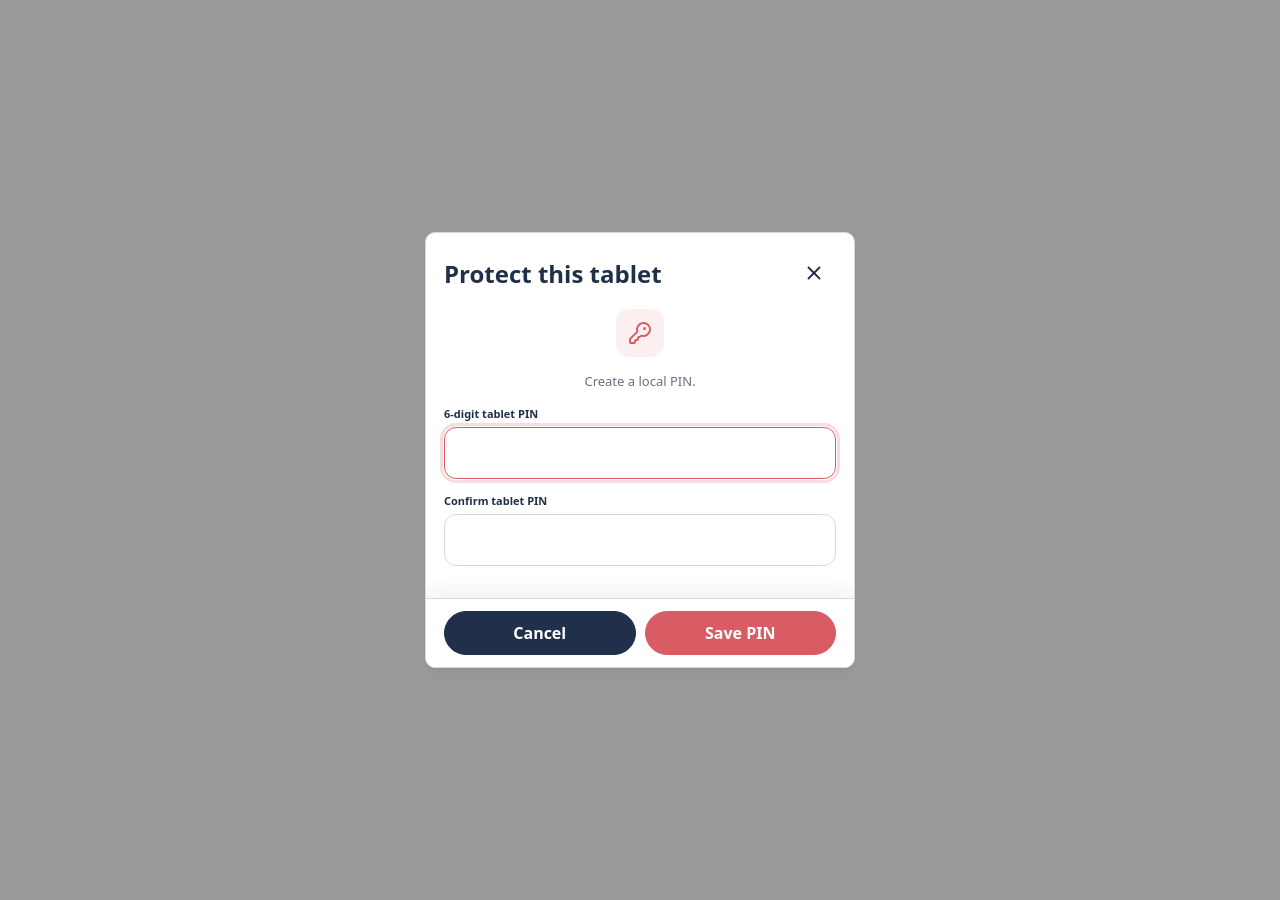
EventPinDialog › requires matching PINs during setup
In the password field labelled "6-digit tablet PIN": [640, 453] box [444,427,836,479], type "123456"
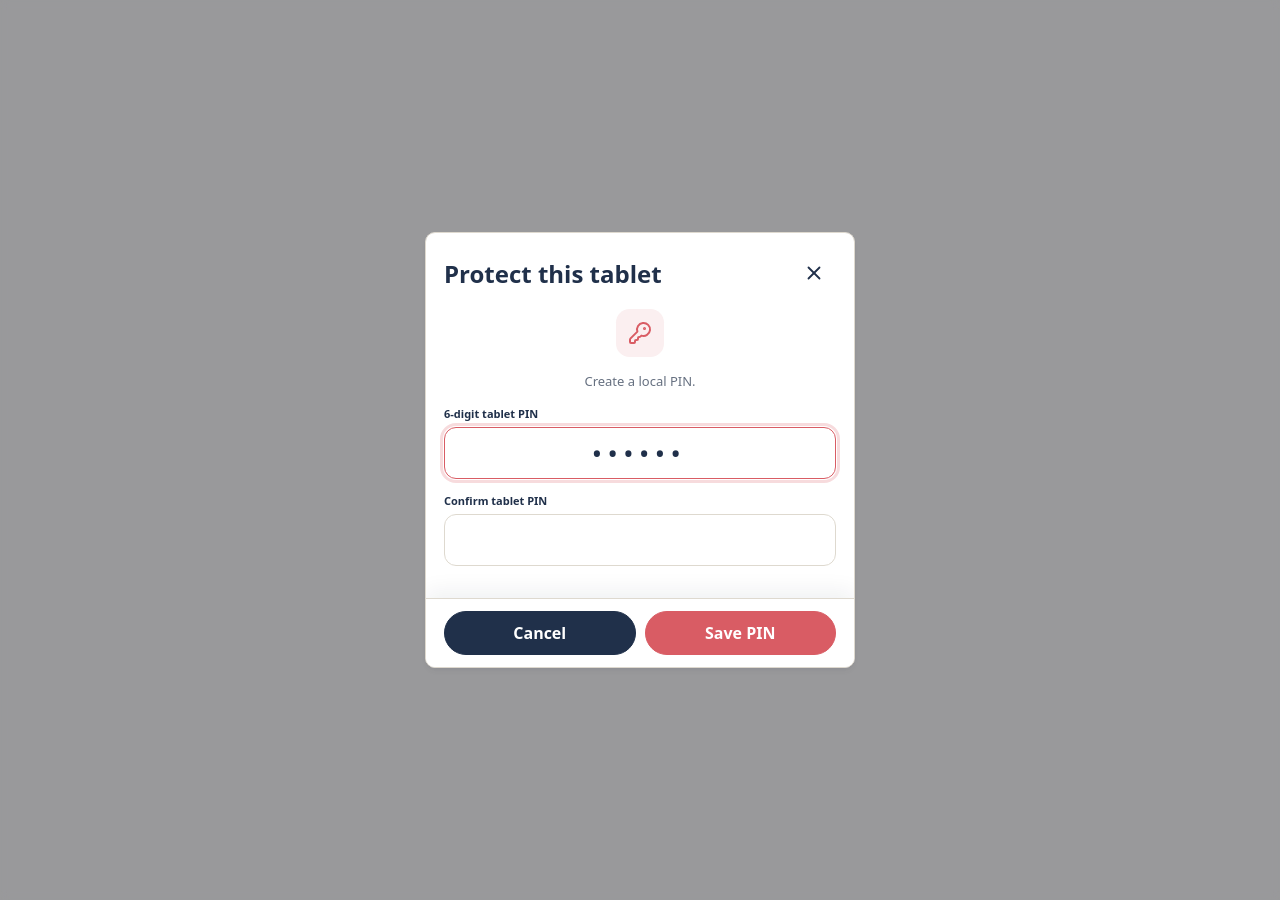
In the password field labelled "Confirm tablet PIN": [640, 540] box [444,514,836,566], type "654321"
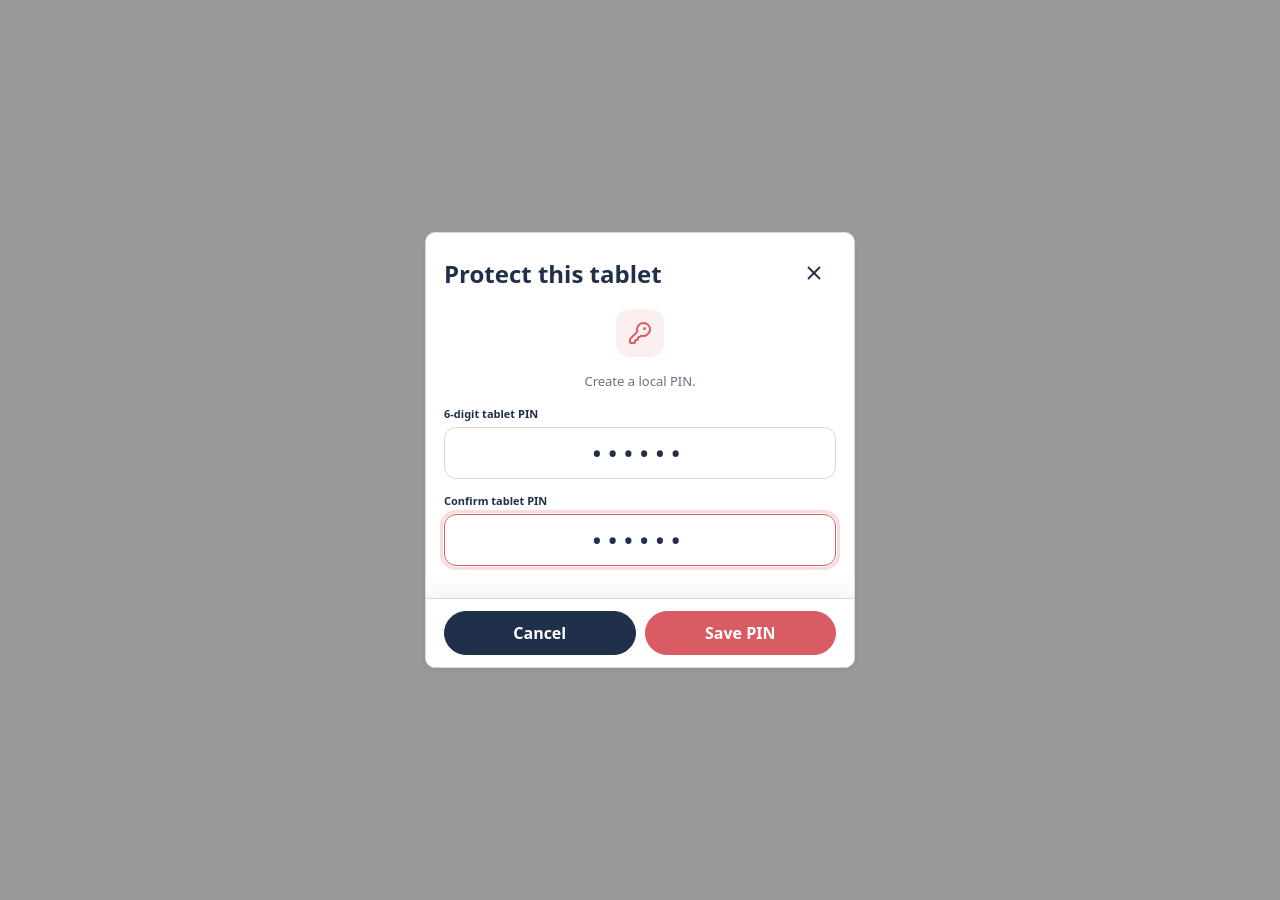
Submit the form "Save PIN", box [444,307,836,648]
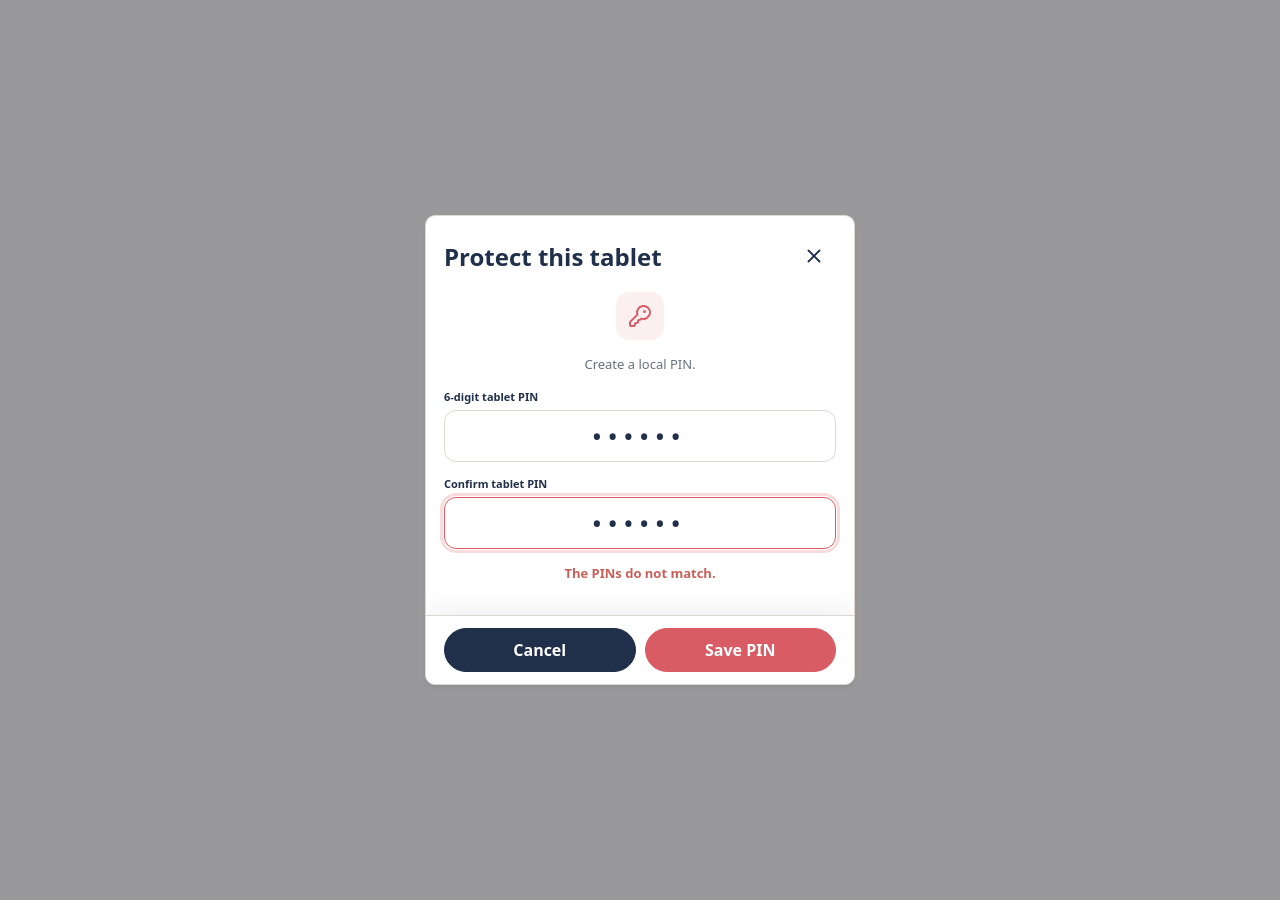
Result: the message reads "The PINs do not match." at [564,564,716,582]
